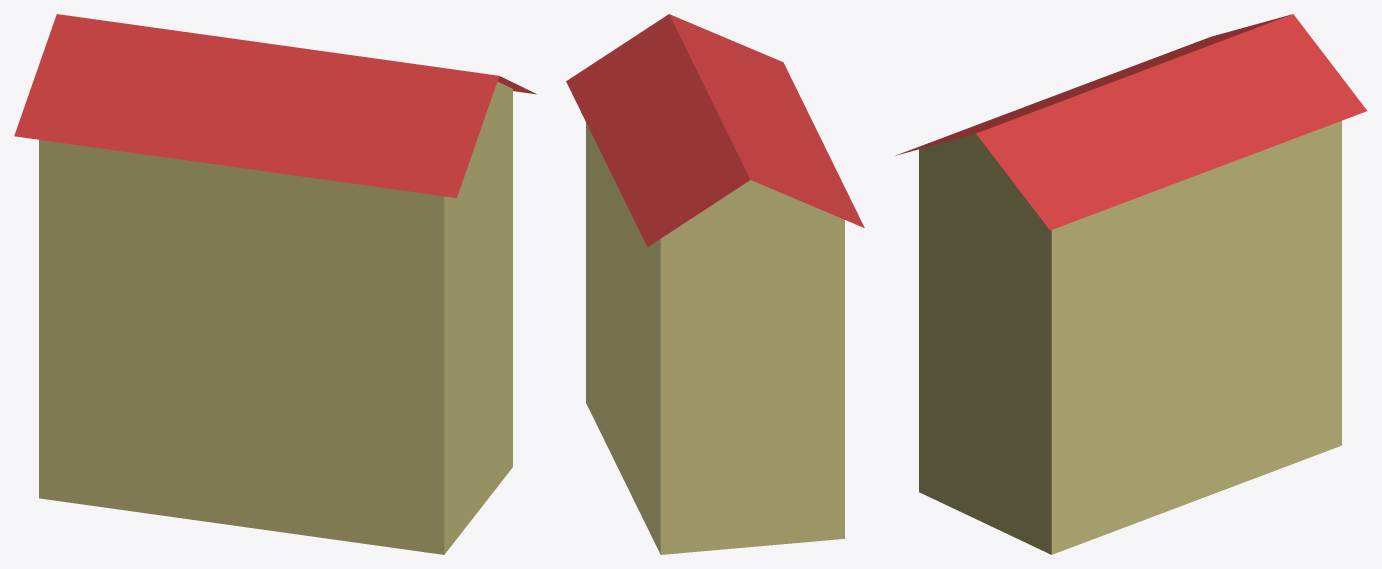
3 renders of one model, left to right at view 1: azimuth 30°, elevation 25°; view 2: azimuth 150°, elevation 25°; view 3: azimuth 270°, elevation 25°, orthographic. The views are drawn at different scales.
Bounding box in the file's own units: 6.38 × 6.59 × 6.09.
